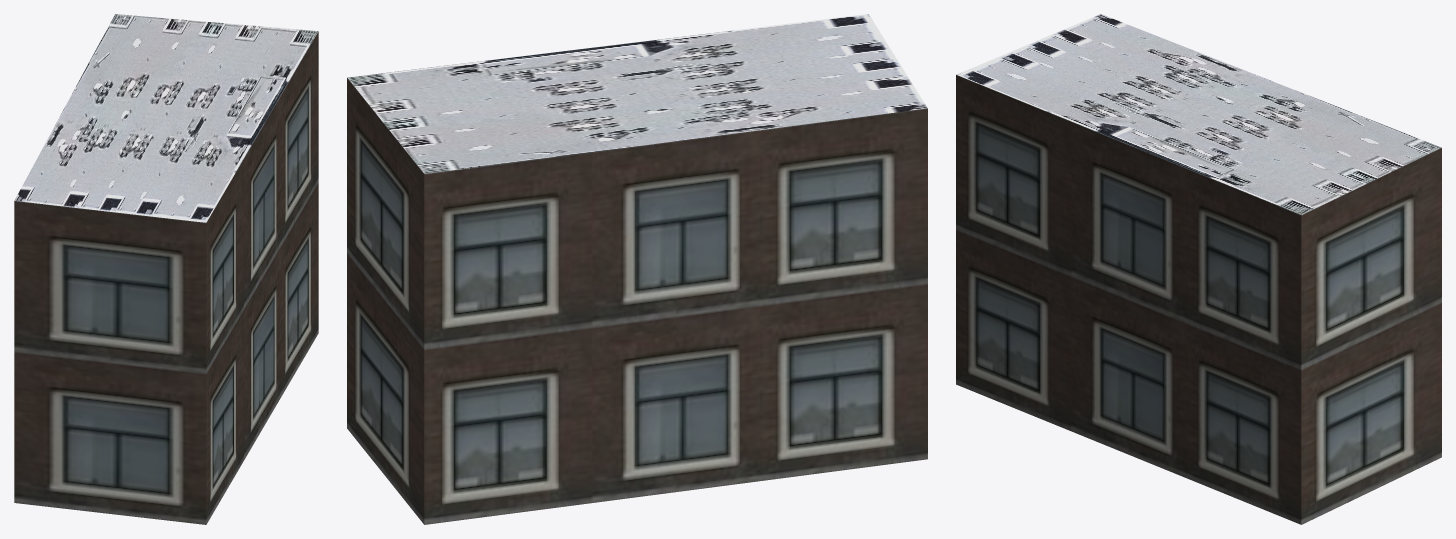
The model's file is ResTex__1579.fbx.
3 views of the same model, side by side, from view 1: azimuth 30°, elevation 25°; view 2: azimuth 150°, elevation 25°; view 3: azimuth 270°, elevation 25° (orthographic). The views are drawn at different scales.
Parts seen in each view (by area): view 1: CityEngineMaterial_16_m, CityEngineMaterial_15_m; view 2: CityEngineMaterial_16_m, CityEngineMaterial_15_m; view 3: CityEngineMaterial_16_m, CityEngineMaterial_15_m.
Part boxes in pixels (x1,y1,x2,y2): CityEngineMaterial_16_m: (14,31,318,524); CityEngineMaterial_15_m: (14,14,318,222); CityEngineMaterial_16_m: (347,78,927,524); CityEngineMaterial_15_m: (347,14,927,173); CityEngineMaterial_16_m: (956,75,1441,524); CityEngineMaterial_15_m: (956,14,1441,214).
Size of the model in its own units: 8.36 by 6 by 8.53.
2 materials, 2 textured.
